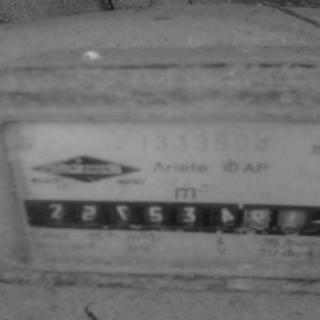2: (286, 210, 299, 224)
3: (44, 203, 68, 224)
4: (180, 206, 199, 225)
5: (213, 207, 237, 226)
6: (145, 204, 167, 225), (79, 203, 100, 223)
8: (114, 202, 131, 222)
:: (248, 208, 269, 228)
